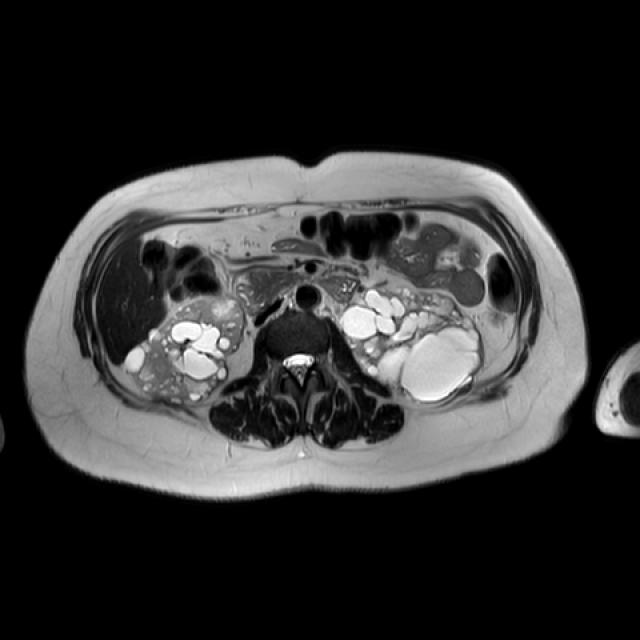sag: (123, 295, 247, 408)
sol: (340, 284, 486, 404)
